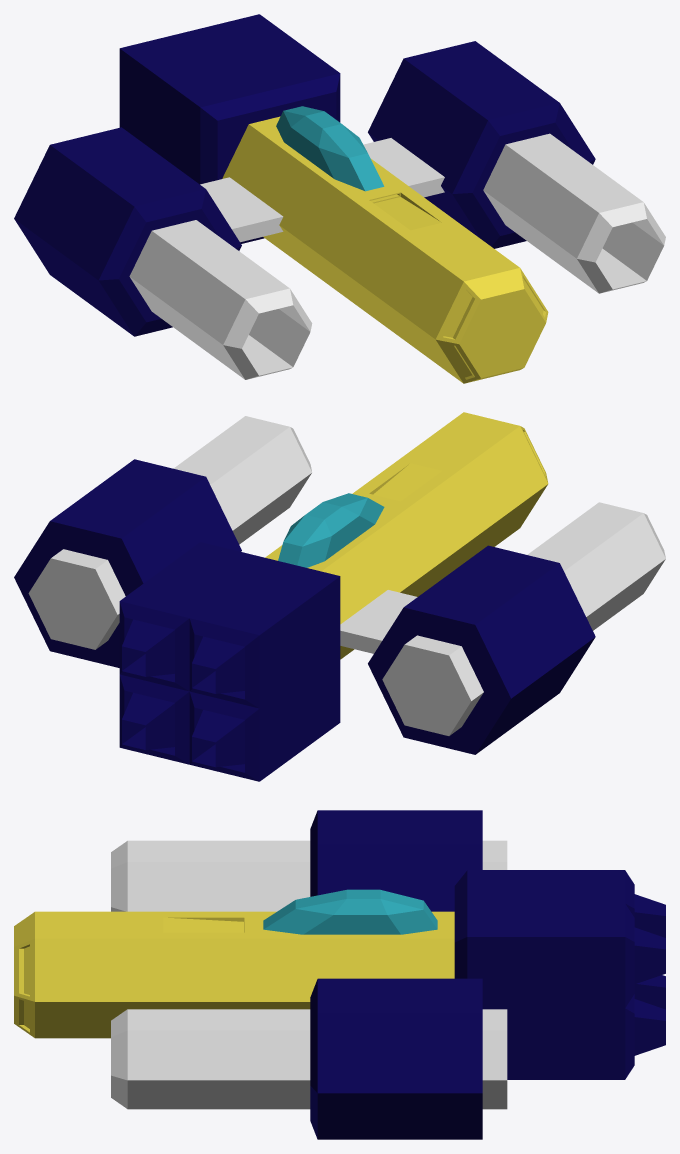
The model's file is ShipCold.fbx.
3 views of the same model, one above another, from view 1: azimuth 30°, elevation 25°; view 2: azimuth 150°, elevation 25°; view 3: azimuth 270°, elevation 25° (orthographic). The views are drawn at different scales.
Visible parts, largest first — view 1: Cylinder.002, Cylinder, Cylinder.001, Cube.002, Cube, Cube.001; view 2: Cube.002, Cylinder.002, Cylinder.001, Cylinder, Cube.001, Cube; view 3: Cylinder.002, Cylinder, Cube.002, Cylinder.001, Cube.001.
Part boxes in pixels (x1,y1,x2,y2): Cylinder.002: (14,41,595,336); Cylinder: (222,116,548,383); Cylinder.001: (129,133,665,379); Cube.002: (119,14,340,243); Cube: (200,138,444,242); Cube.001: (276,106,384,191); Cube.002: (119,542,340,781); Cylinder.002: (14,459,595,754); Cylinder.001: (28,416,665,735); Cylinder: (265,412,548,659); Cube.001: (278,493,384,567); Cube: (340,590,417,653); Cylinder.002: (310,810,482,1139); Cylinder: (14,911,454,1038); Cube.002: (454,870,665,1079); Cylinder.001: (111,840,507,1109); Cube.001: (263,889,437,934).
Bounding box in the file's own units: 881 × 264 × 1025.
